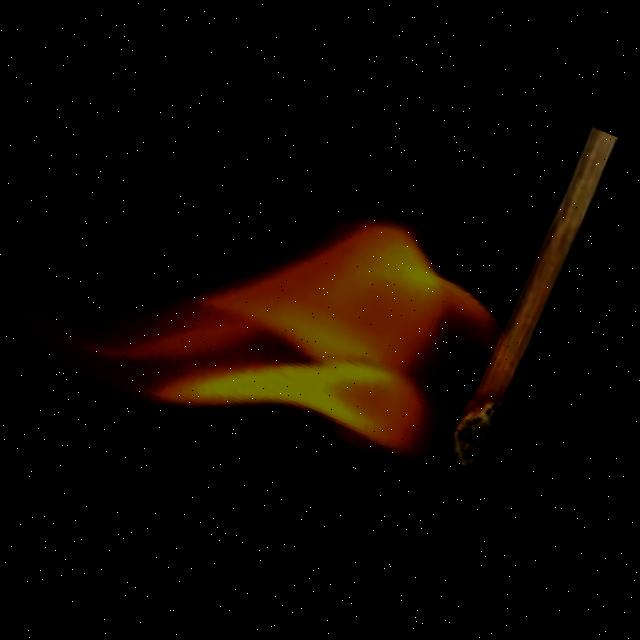Fire: (0, 85, 564, 550)
